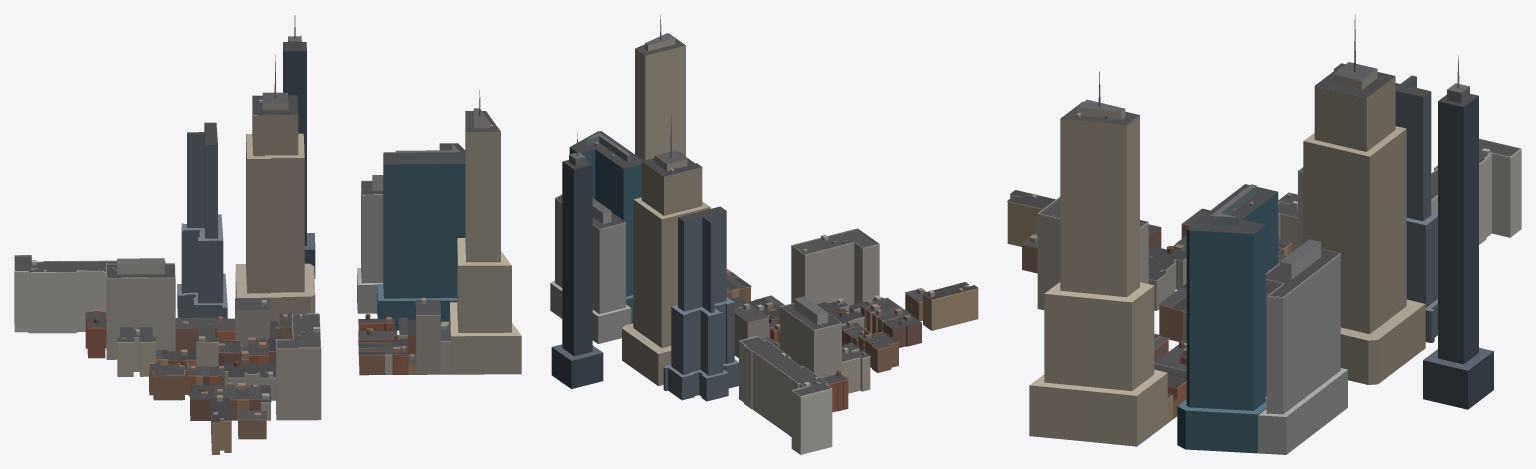
File: 0_3.bld.glb
3 renders of one model, left to right at view 1: azimuth 30°, elevation 25°; view 2: azimuth 150°, elevation 25°; view 3: azimuth 270°, elevation 25°, orthographic. The views are drawn at different scales.
Parts seen in each view (by area): view 1: 0_3; view 2: 0_3; view 3: 0_3.
Boxes of the visible parts, x1,y1,x2,y2 form: 0_3: [14, 15, 521, 454]; 0_3: [550, 14, 978, 454]; 0_3: [1007, 14, 1521, 454].
Size of the model in its own units: 320 by 224 by 294.
